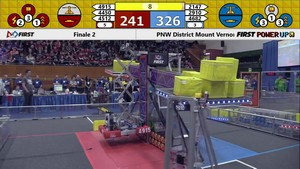cube: (174, 73, 202, 99), (201, 59, 232, 82), (203, 77, 230, 99), (228, 79, 245, 98), (114, 61, 129, 73)
